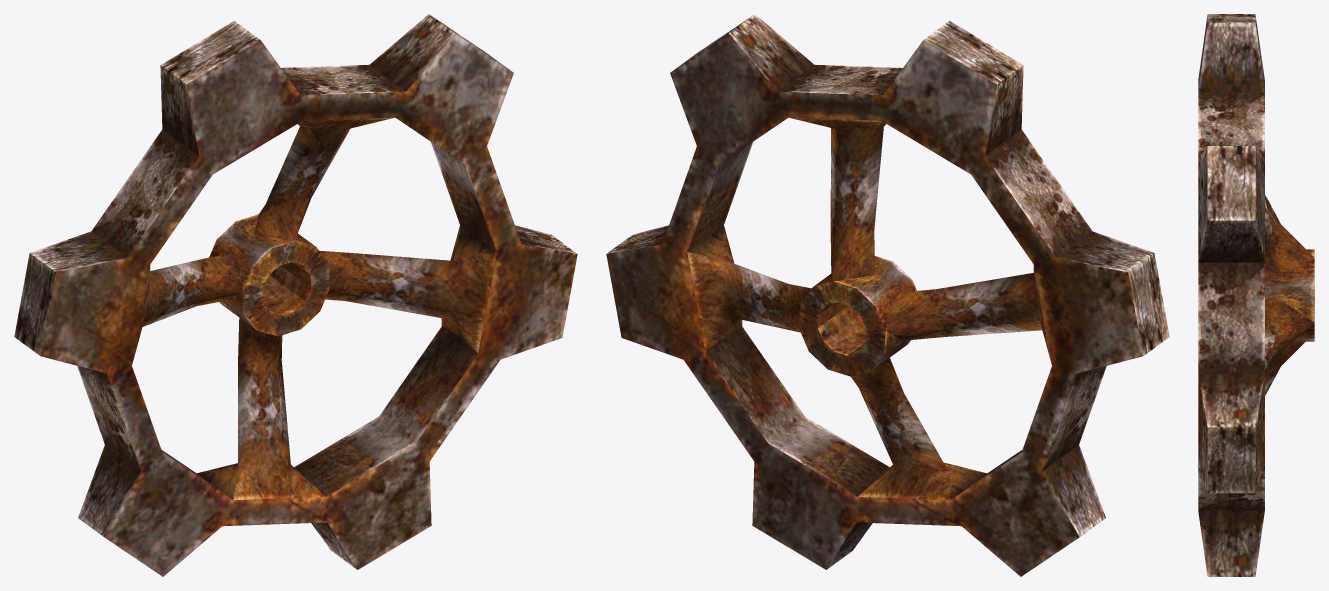
The model's file is elevator_cogwheel02.dae.
3 views of the same model, side by side, from view 1: azimuth 30°, elevation 25°; view 2: azimuth 150°, elevation 25°; view 3: azimuth 270°, elevation 25° (orthographic). The views are drawn at different scales.
Parts seen in each view (by area): view 1: elevator_cogwheel02; view 2: elevator_cogwheel02; view 3: elevator_cogwheel02.
Boxes of the visible parts, <box> form: elevator_cogwheel02: <box>14,14,577,576</box>; elevator_cogwheel02: <box>606,14,1169,576</box>; elevator_cogwheel02: <box>1198,14,1314,576</box>.
Size of the model in its own units: 1.03 by 1.01 by 0.2134.
